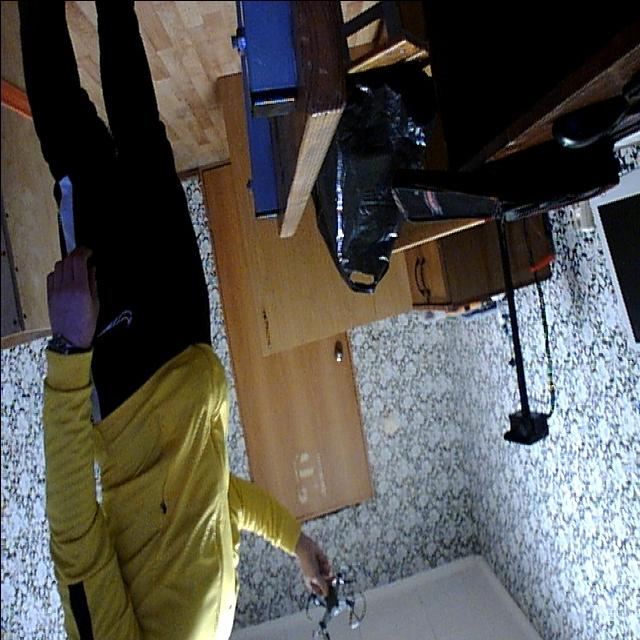drone: (293, 558, 370, 640)
